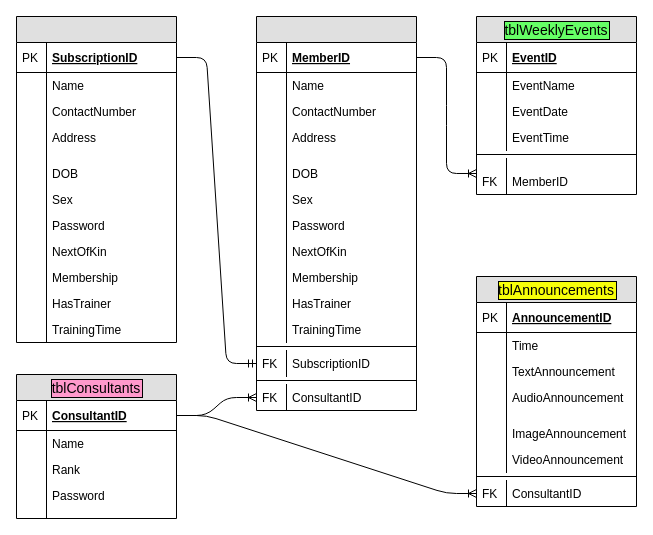
The diagram is 653 pixels wide and 535 high, and some of its shapes have lost their labels. The shapes that lost their labels are listed below. From the top down, each one's box as (x1, y1, x2, y2) in pixels, then its label:
(16, 16, 176, 342): tblSubscriptions
(256, 16, 416, 410): tblMembers
